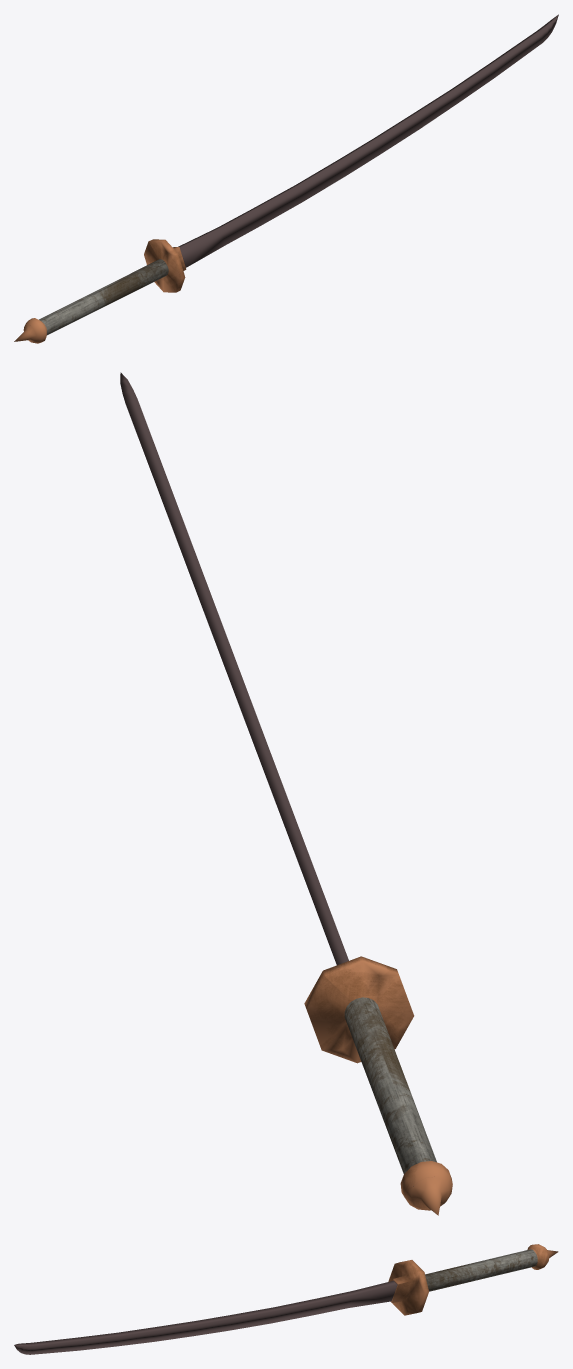
The model's file is Anim_idle_katana_objetos.0044.obj.
3 views of the same model, one above another, from view 1: azimuth 90°, elevation 25°; view 2: azimuth 150°, elevation 25°; view 3: azimuth 270°, elevation 25° (orthographic). The views are drawn at different scales.
Visible parts, largest first — view 1: Katana1; view 2: Katana1; view 3: Katana1.
Part boxes in pixels (x1=…): Katana1: x1=14, y1=14, x2=558, y2=343; Katana1: x1=120, y1=372, x2=452, y2=1215; Katana1: x1=14, y1=1244, x2=558, y2=1354.
Bounding box in the file's own units: 3.56 × 0.9928 × 3.9.
